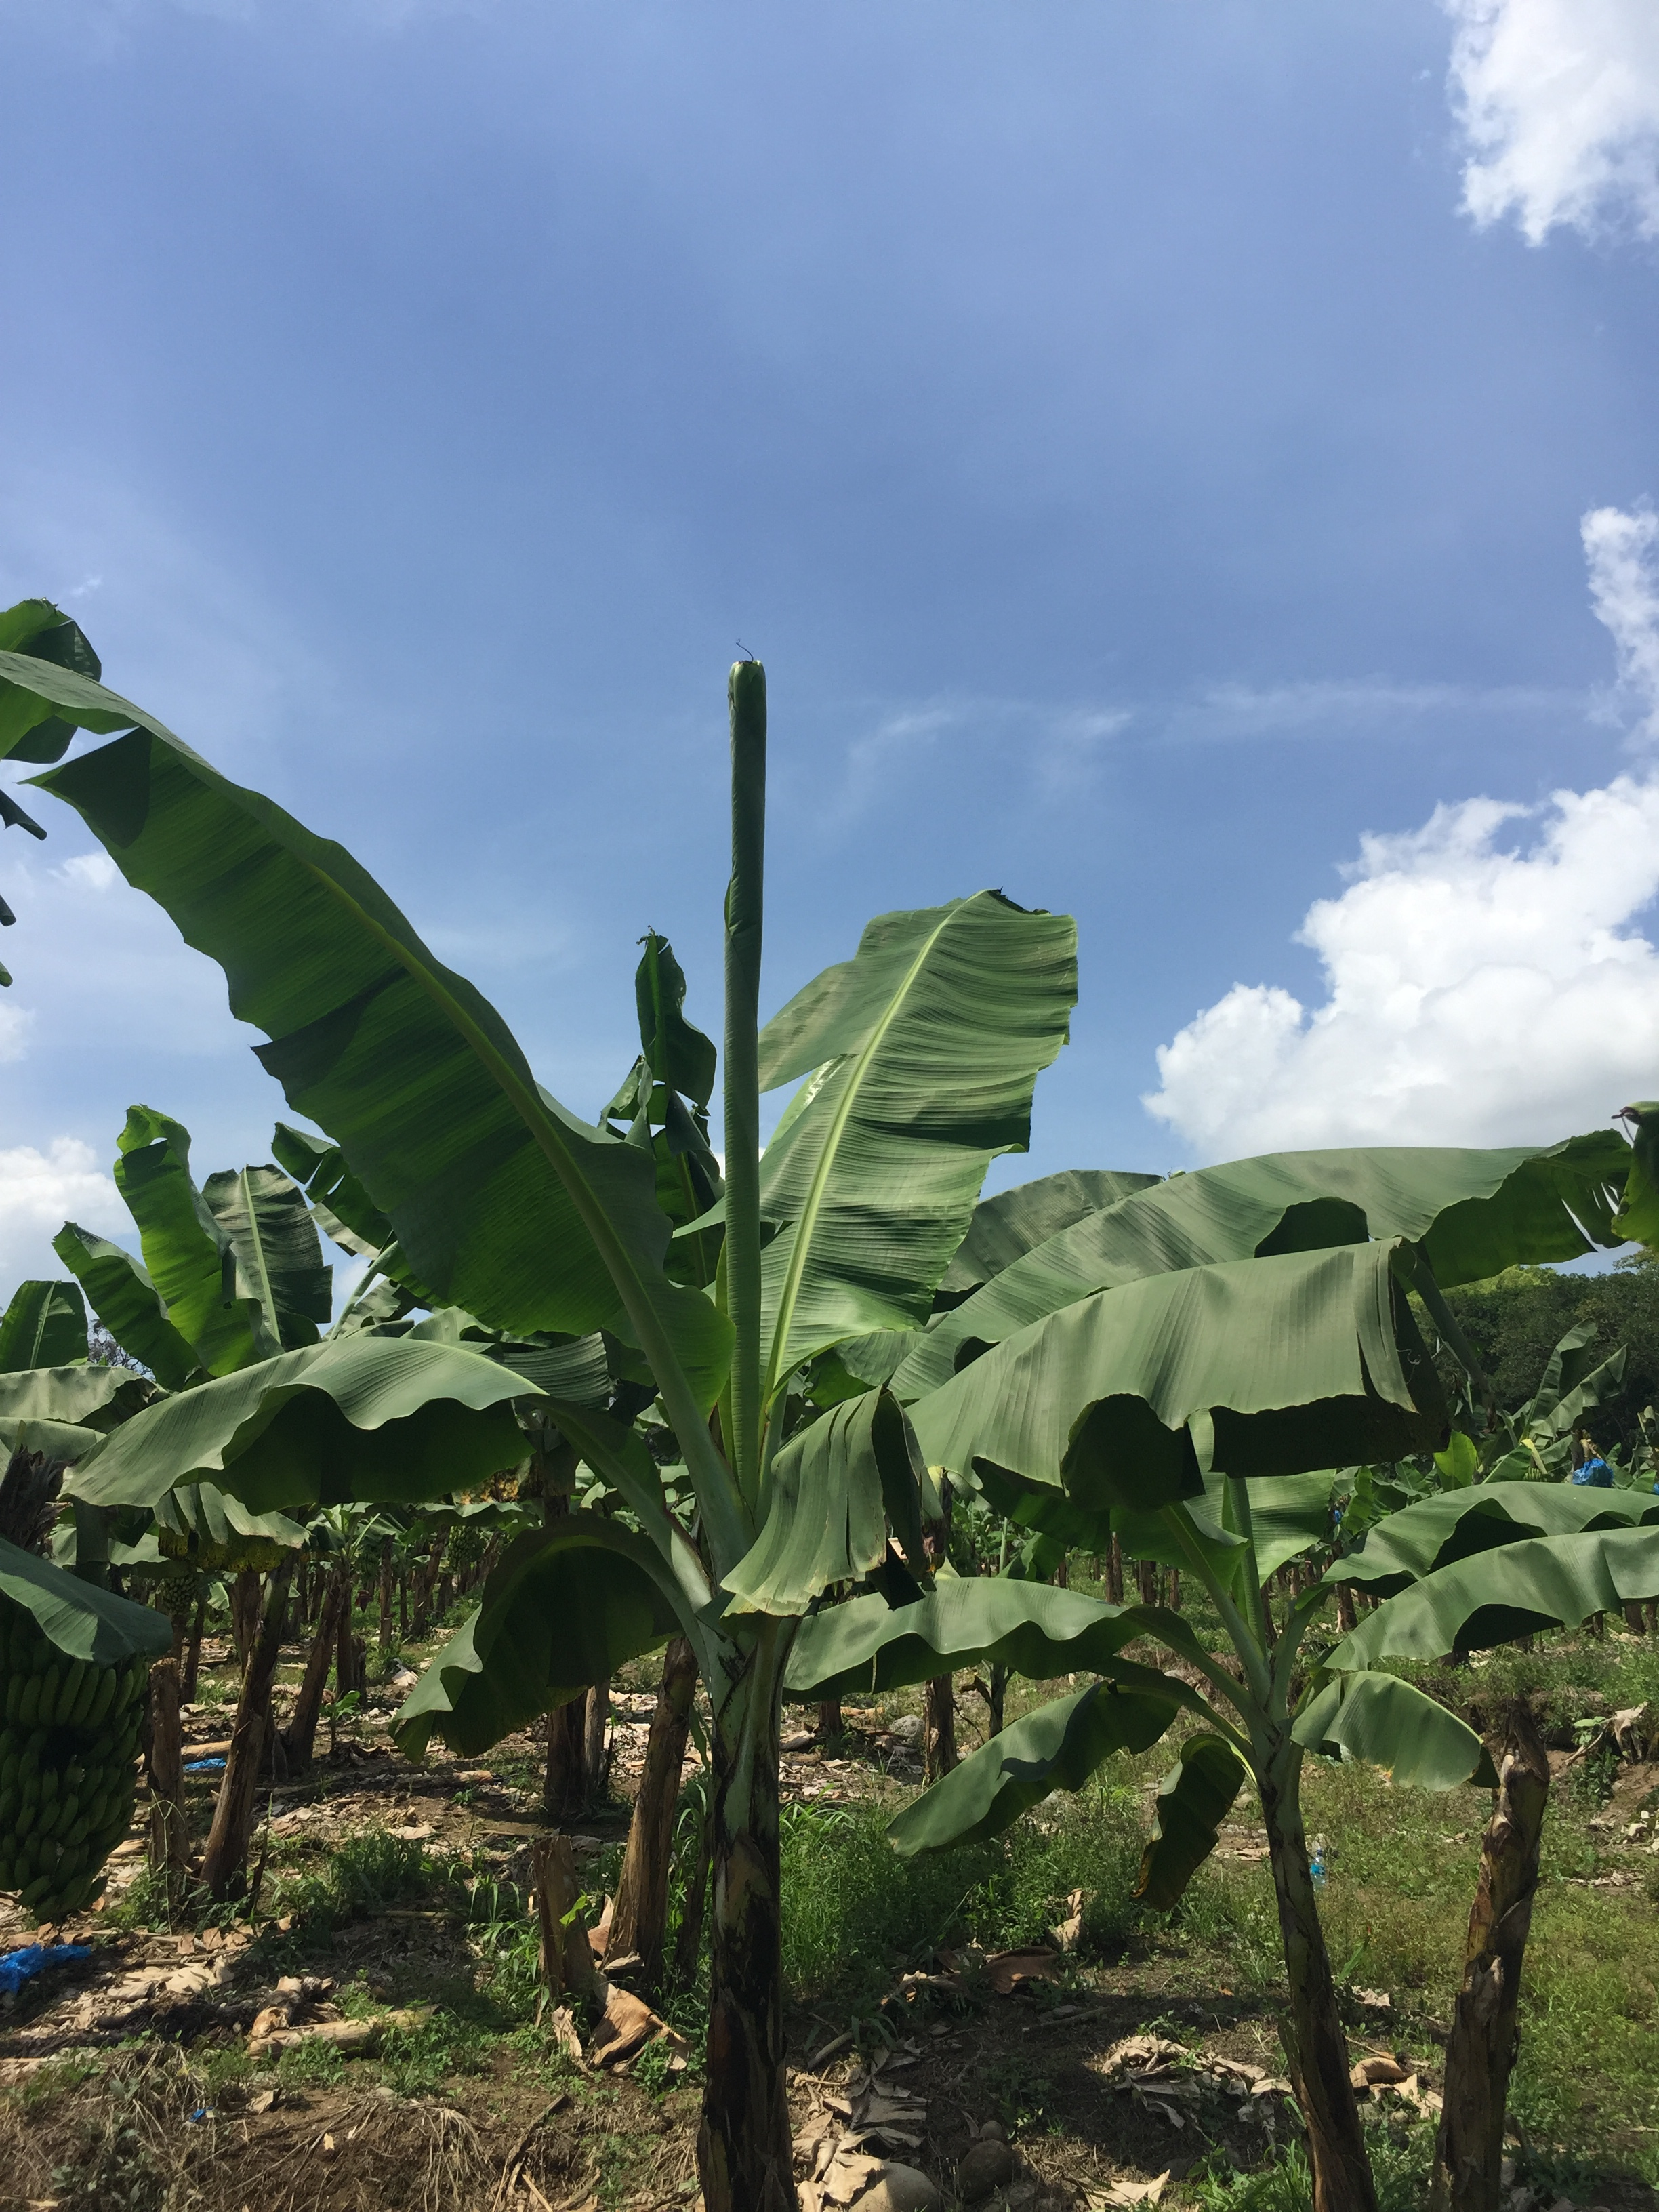candleleafs: (716, 639, 769, 1494)
